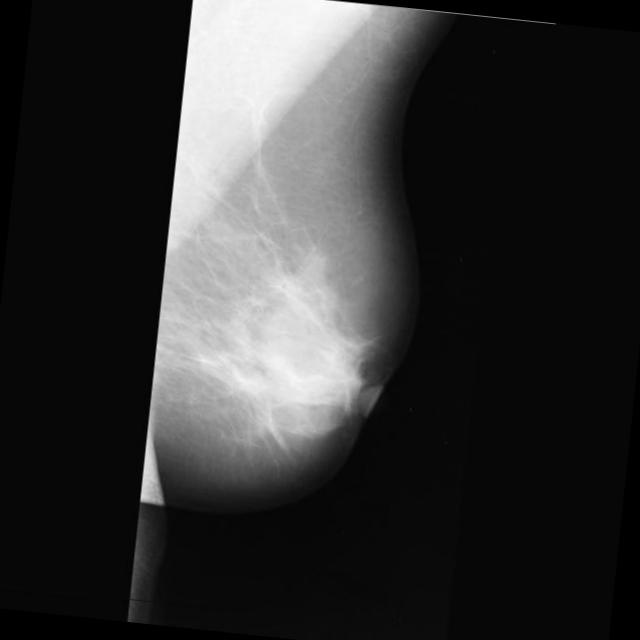SPIC: (274, 272, 300, 296)
